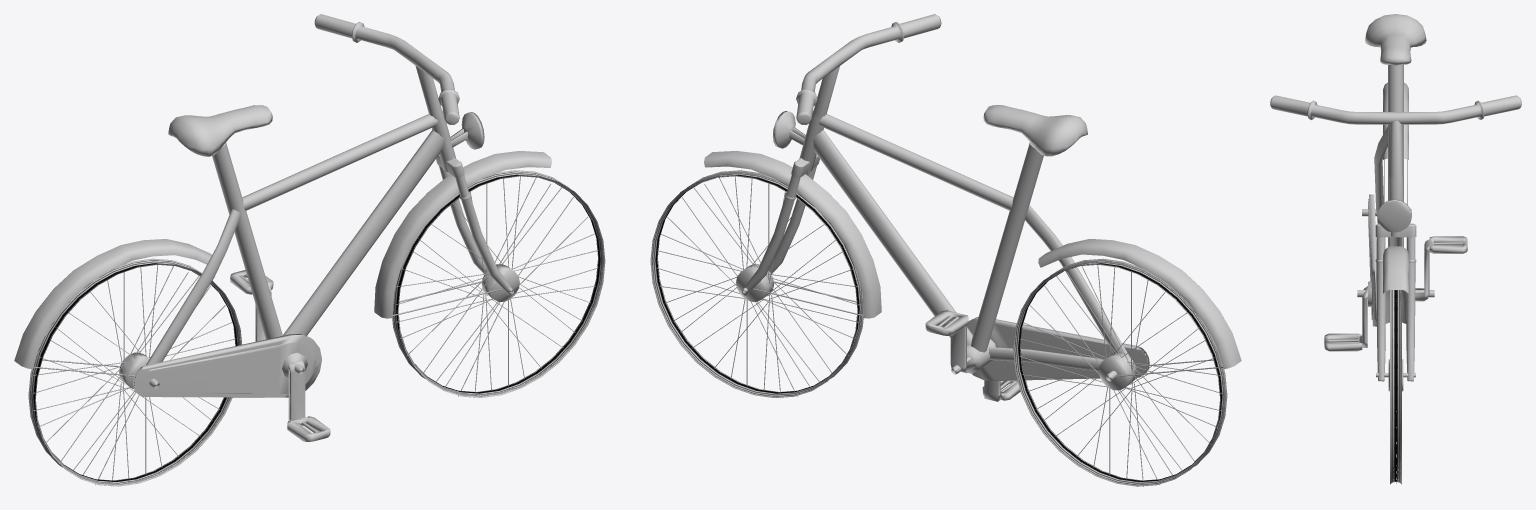
File: c2_bicycle_lod0.fbx
The picture shows the model from 3 angles, left to right: view 1: azimuth 30°, elevation 25°; view 2: azimuth 150°, elevation 25°; view 3: azimuth 270°, elevation 25°; orthographic projection. The views are drawn at different scales.
Visible parts, largest first — view 1: frame, wheel, wheel (2), pedals; view 2: frame, wheel (2), wheel, pedals; view 3: frame, wheel, pedals.
Boxes of the visible parts, x1,y1,x2,y2 form: frame: (14,14,551,397); wheel: (392,170,605,397); wheel (2): (28,258,242,486); pedals: (230,270,330,441); frame: (704,14,1241,381); wheel (2): (1013,258,1227,486); wheel: (650,170,863,397); pedals: (925,310,1020,401); frame: (1270,14,1521,381); wheel: (1388,290,1403,484); pedals: (1324,236,1467,351).
Size of the model in its own units: 174 by 104 by 69.52.
